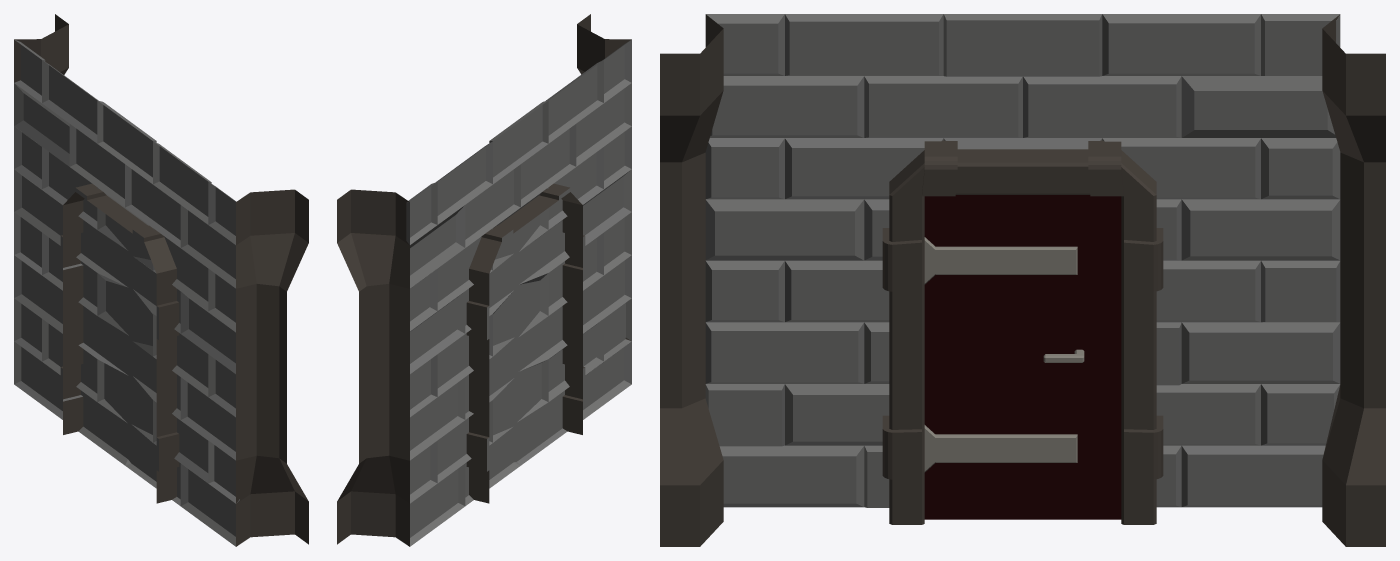
Rendered from modular asset pack staat1 pr3 (muur 3).fbx.
The picture shows the model from 3 angles, left to right: view 1: azimuth 30°, elevation 25°; view 2: azimuth 150°, elevation 25°; view 3: azimuth 270°, elevation 25°; orthographic projection. The views are drawn at different scales.
Visible parts, largest first — view 1: muur 3; view 2: muur 3; view 3: muur 3.
Part boxes in pixels (left/top/right/bottom): muur 3: left=14, top=14, right=308, bottom=546; muur 3: left=337, top=14, right=631, bottom=546; muur 3: left=660, top=14, right=1385, bottom=546.
Size of the model in its own units: 0.6573 by 3 by 4.
